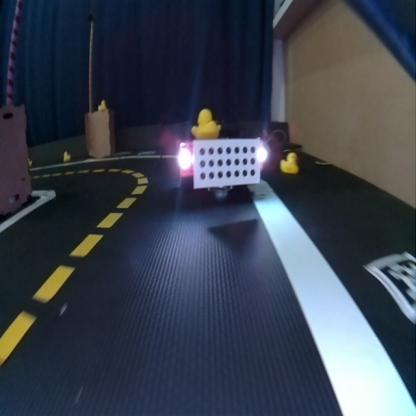Duckie: (191, 108, 219, 138), (280, 152, 297, 170), (97, 99, 105, 108), (63, 151, 70, 160)
Duckiebot: (178, 138, 267, 197)
QR code: (363, 254, 414, 321)
